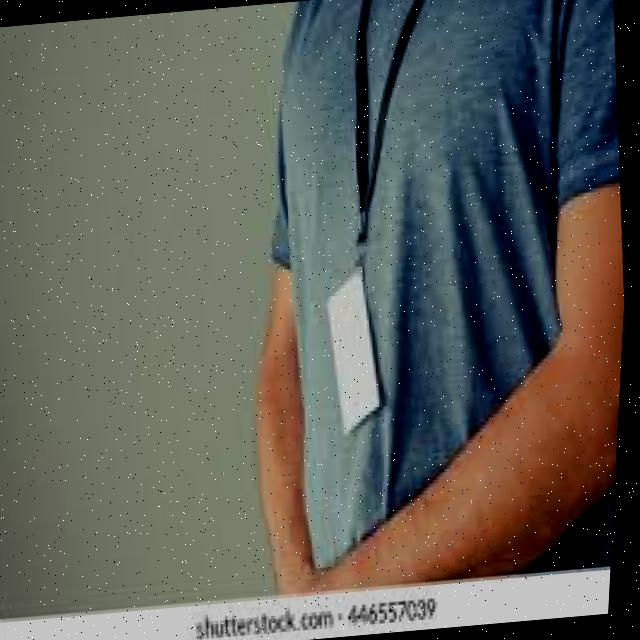id_card: (298, 6, 410, 437)
